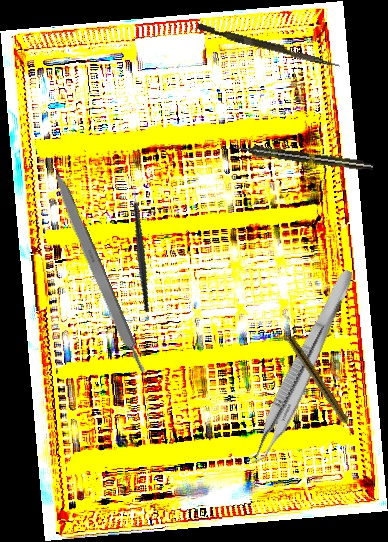Chopper: (96, 181, 179, 313)
Handpiece: (284, 335, 358, 437), (231, 141, 375, 173)
Pusher: (195, 23, 343, 69)
Scalpel Handle: (46, 165, 149, 380)
Tissue Forceps: (242, 262, 358, 473)
